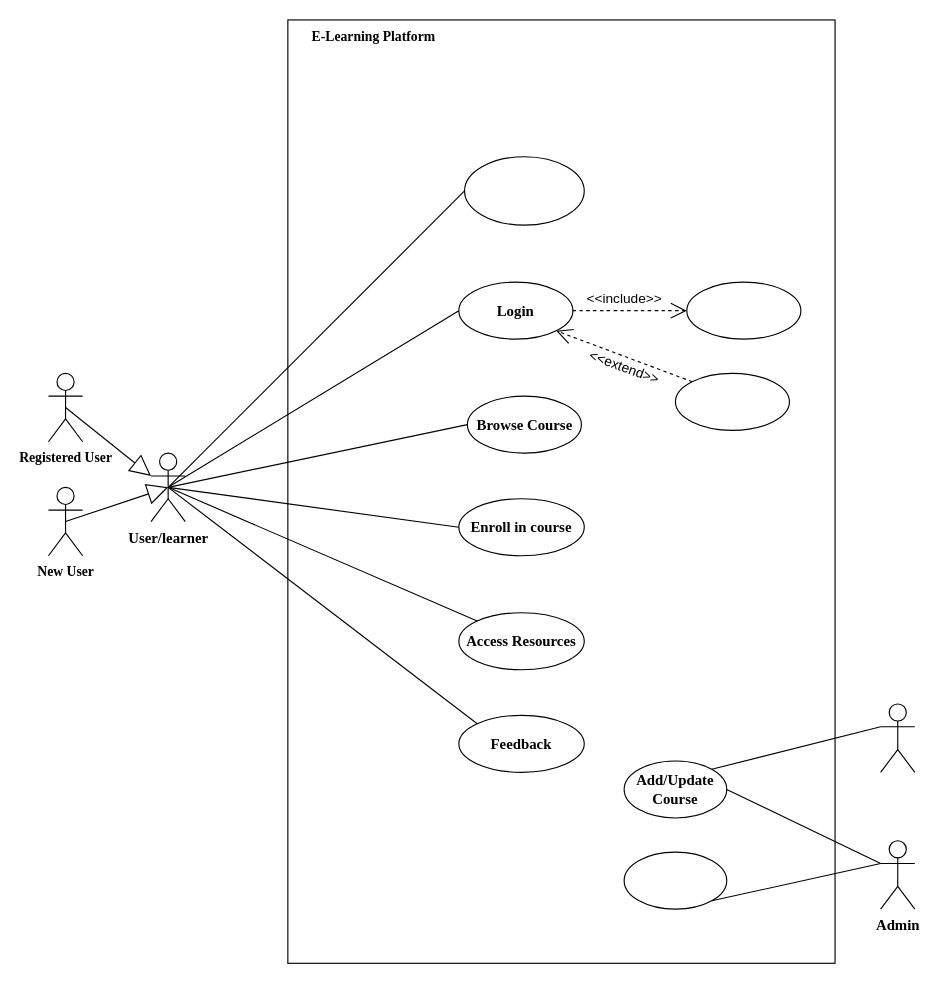
The diagram is 950 pixels wide and 984 high, and some of its shapes have lost their labels. Here are the shapes that lost their labels. From the top down, the centre of each, then its label:
At (523,190): "Regsiter".
At (743,310): "Verify Login".
At (731,401): "Error Message".
At (897,737): "Instructor".
At (675,880): "Manage Users".
